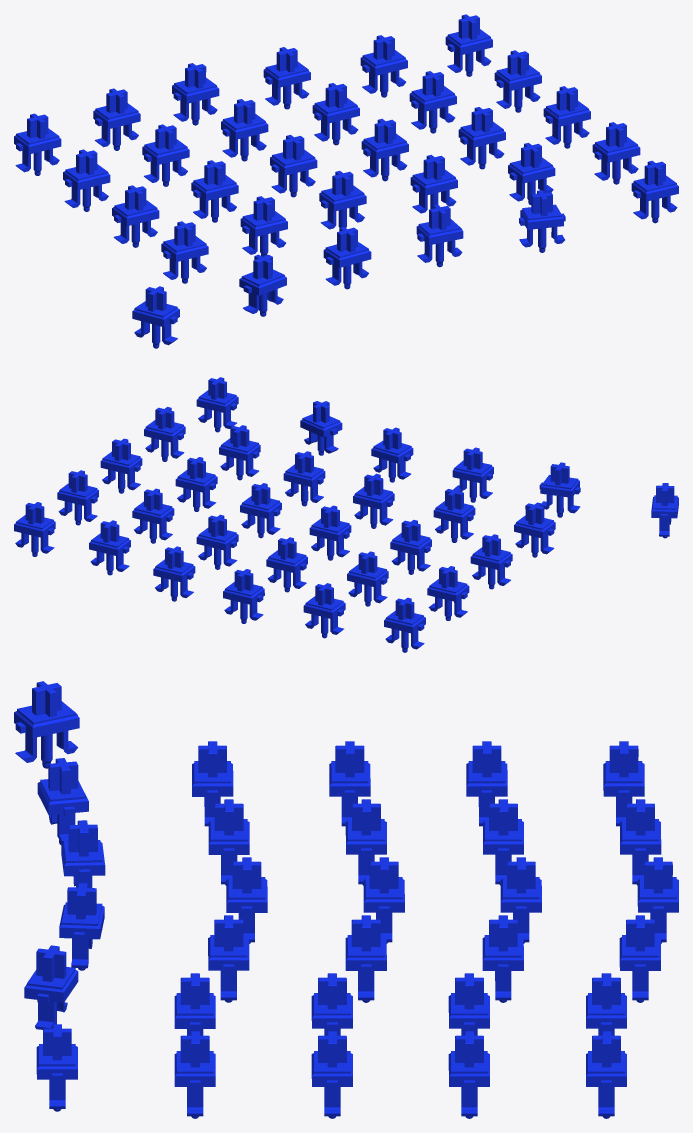
Rendered from stem.glb.
3 renders of one model, top to bottom at view 1: azimuth 30°, elevation 25°; view 2: azimuth 150°, elevation 25°; view 3: azimuth 270°, elevation 25°, orthographic. The views are drawn at different scales.
Parts seen in each view (by area): view 1: Body1.111, Body1.154, Body1.135, Body1.046, Body1.063, Body1.142, Body1.051, Body1.070, Body1.075, Body1.178, Body1.039, Body1.159 (+18 smaller); view 2: Body1.063, Body1.124, Body1.106, Body1.015, Body1.159, Body1.039, Body1.082, Body1.009, Body1.022, Body1.046, Body1.034, Body1.130 (+18 smaller); view 3: Body1.178, Body1.166, Body1.147, Body1.159, Body1.022, Body1.063, Body1.003, Body1.070, Body1.075, Body1.027, Body1.171, Body1.034 (+18 smaller).
Boxes of the visible parts, x1,y1,x2,y2 form: Body1.111: (93,88,140,150); Body1.154: (323,227,371,289); Body1.135: (63,149,110,211); Body1.046: (360,35,407,97); Body1.063: (361,118,408,181); Body1.142: (112,185,159,247); Body1.051: (409,71,456,133); Body1.070: (312,83,359,145); Body1.075: (263,47,310,109); Body1.178: (132,286,179,348); Body1.039: (445,14,492,76); Body1.159: (416,204,463,267); Body1.063: (240,483,281,538); Body1.124: (514,502,555,557); Body1.106: (347,551,388,606); Body1.015: (219,425,260,480); Body1.159: (371,427,413,482); Body1.039: (14,502,55,556); Body1.082: (223,569,264,623); Body1.009: (353,473,394,528); Body1.022: (144,407,185,461); Body1.046: (89,520,130,575); Body1.034: (57,470,98,525); Body1.130: (384,597,425,652); Body1.178: (14,681,79,768); Body1.166: (24,945,78,1029); Body1.147: (37,758,88,844); Body1.159: (59,883,104,970); Body1.022: (174,1031,215,1118); Body1.063: (345,915,386,1002); Body1.003: (208,915,249,1002); Body1.070: (482,915,523,1002); Body1.075: (619,915,660,1002); Body1.027: (311,1031,352,1118); Body1.171: (36,1024,77,1111); Body1.034: (448,1031,489,1118).
Size of the model in its own units: 116 by 11.63 by 86.4.
